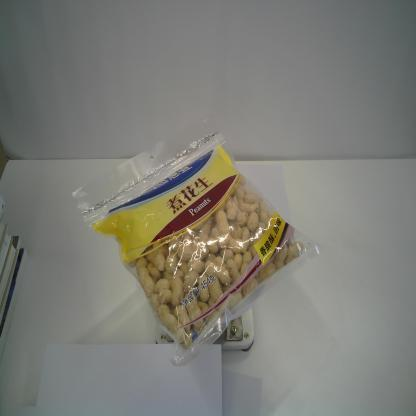Dried Food: (72, 117, 324, 367)
